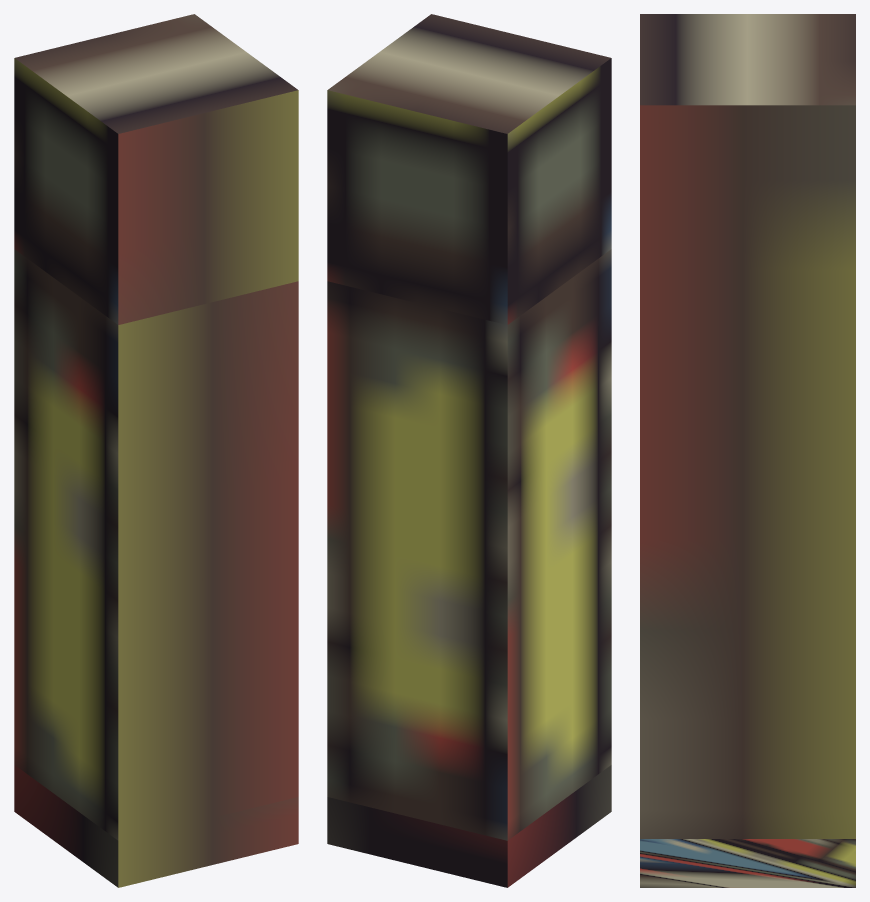
The model's file is casa2_cantonada_mig.fbx.
The picture shows the model from 3 angles, left to right: view 1: azimuth 30°, elevation 25°; view 2: azimuth 150°, elevation 25°; view 3: azimuth 270°, elevation 25°; orthographic projection. The views are drawn at different scales.
Parts seen in each view (by area): view 1: Wall1.027; view 2: Wall1.027; view 3: Wall1.027.
Boxes of the visible parts, box(x1,y1,x2,y2) form: Wall1.027: box(14, 14, 298, 887); Wall1.027: box(327, 14, 611, 887); Wall1.027: box(640, 14, 855, 887).
Bounding box in the file's own units: 100 × 400 × 100.
